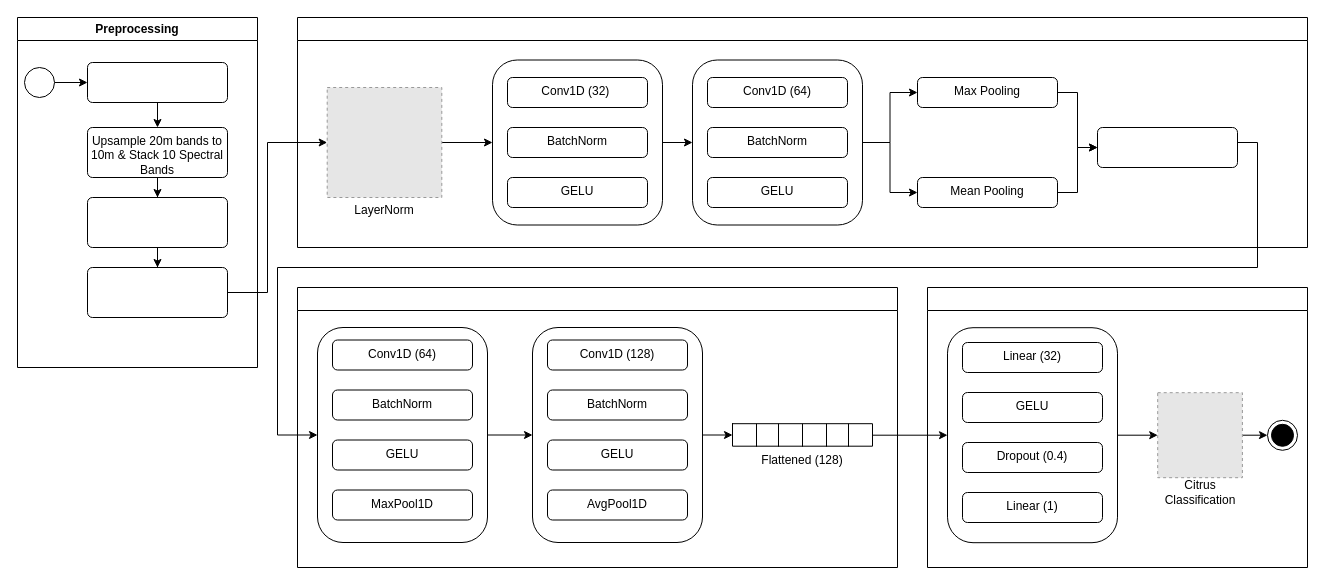
This 1325x585 diagram has some shape labels left out. Grey dashed boxes stand in for pictures. Each missing label, with the box of its shape:
Bidirectional Temporal Gap-Filling (Forward & Backward): (86, 266, 228, 318)
Classifier: (926, 286, 1308, 568)
Clip Values (-2.0 to 2.0) & Mask Non-Agricultural Pixels: (86, 196, 228, 248)
Concat (dim=1): (1096, 126, 1238, 168)
Load Raw Sentinel-2 Tensors (10m & 20m): (86, 62, 228, 102)
Spatial Encoder: (296, 16, 1308, 248)
Temporal Encoder: (296, 286, 898, 568)
